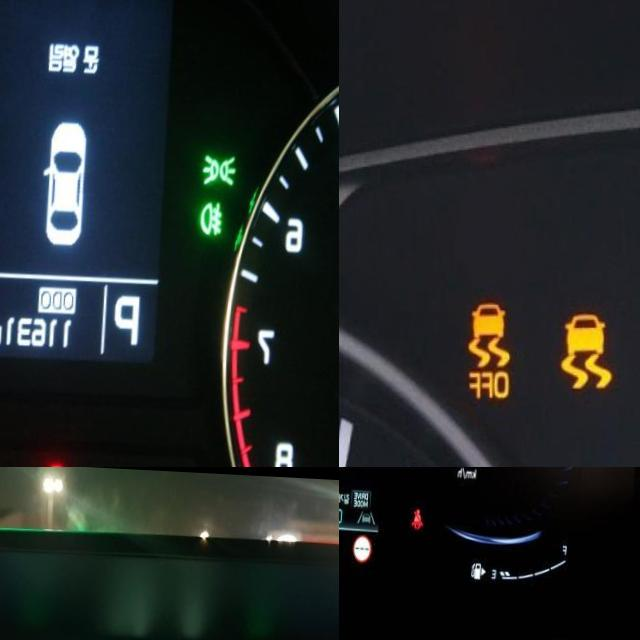FrontFogLight: (204, 193, 228, 231)
SideLamp: (205, 146, 241, 182)
